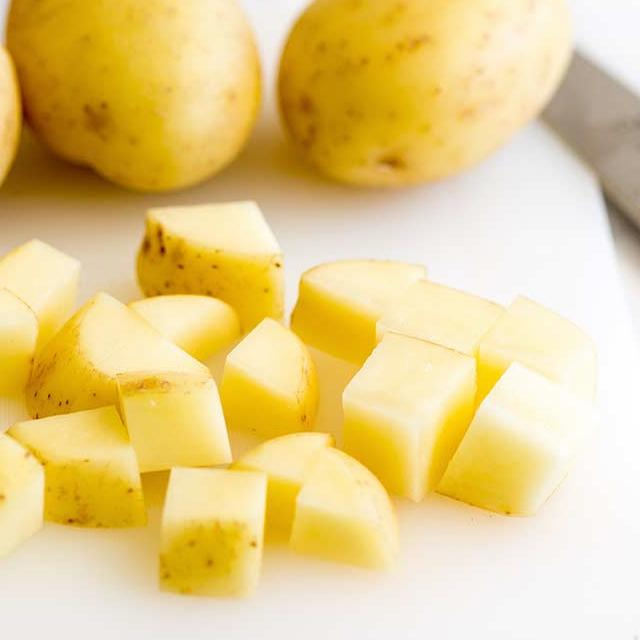potato: (0, 235, 602, 606)
